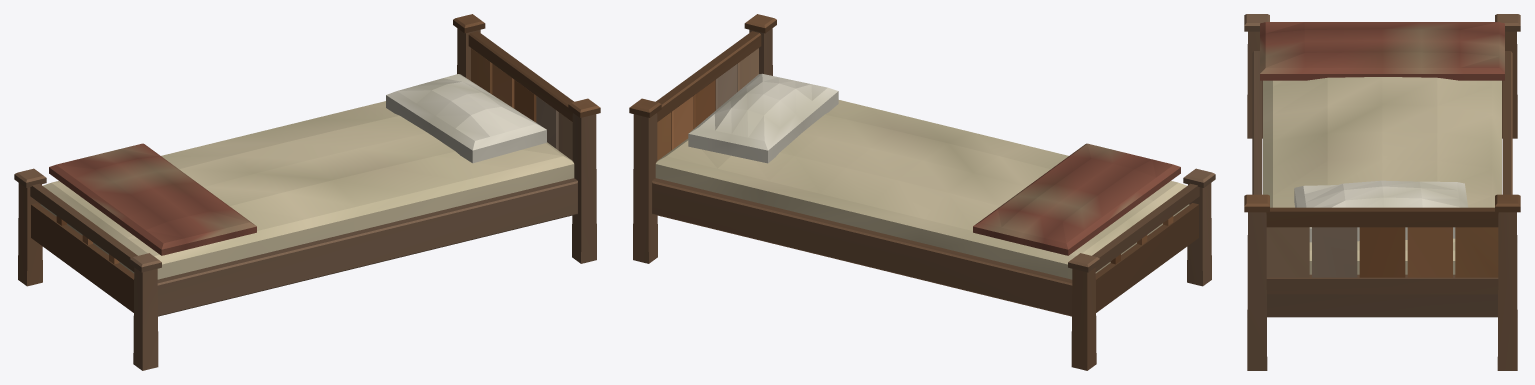
The model's file is old_bed_01.glb.
3 renders of one model, left to right at view 1: azimuth 30°, elevation 25°; view 2: azimuth 150°, elevation 25°; view 3: azimuth 270°, elevation 25°, orthographic. The views are drawn at different scales.
Parts seen in each view (by area): view 1: old_bed_01_fabric, old_bed_01_frame; view 2: old_bed_01_fabric, old_bed_01_frame; view 3: old_bed_01_fabric, old_bed_01_frame.
Boxes of the visible parts, bbox=[...] form: old_bed_01_fabric: bbox=[40, 74, 574, 279]; old_bed_01_frame: bbox=[14, 14, 600, 370]; old_bed_01_fabric: bbox=[655, 73, 1189, 279]; old_bed_01_frame: bbox=[629, 14, 1215, 370]; old_bed_01_fabric: bbox=[1260, 22, 1504, 274]; old_bed_01_frame: bbox=[1244, 14, 1520, 370].
Size of the model in its own units: 2.02 by 0.65 by 0.97.
